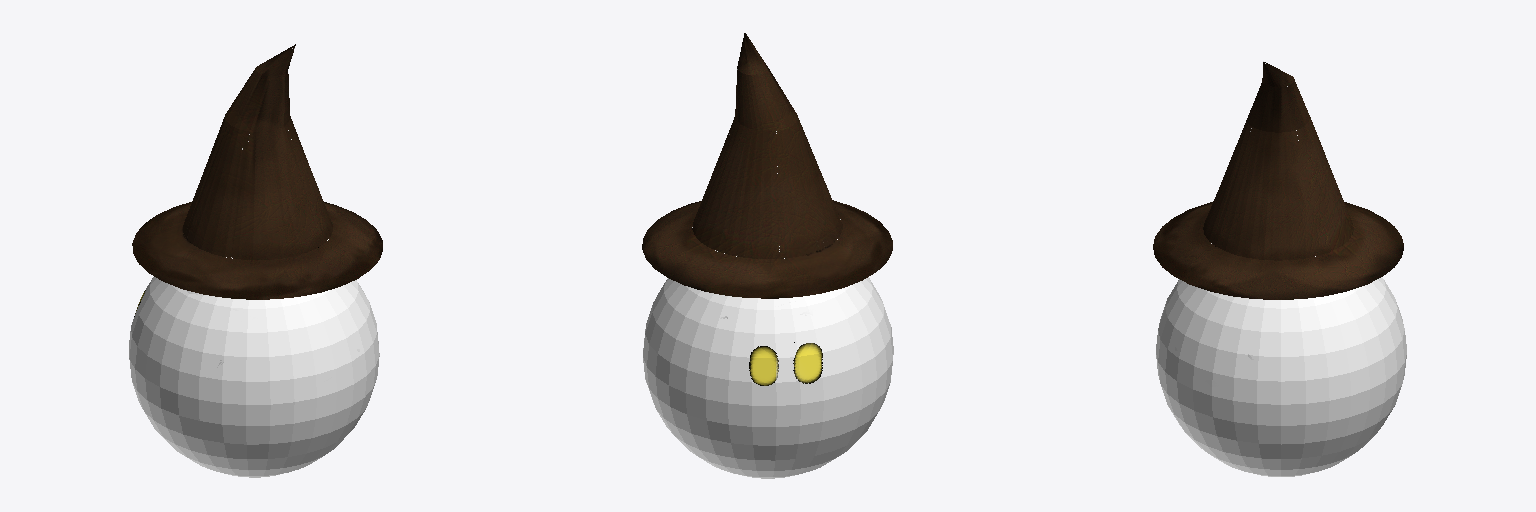
3 views of the same model, side by side, from view 1: azimuth 30°, elevation 25°; view 2: azimuth 150°, elevation 25°; view 3: azimuth 270°, elevation 25° (orthographic).
Parts seen in each view (by area): view 1: Sphere; view 2: Sphere; view 3: Sphere.
Boxes of the visible parts, box(x1,y1,x2,y2) form: Sphere: box(129, 44, 382, 477); Sphere: box(642, 33, 893, 478); Sphere: box(1153, 61, 1406, 476).
Bounding box in the file's own units: 1.72 × 3.14 × 1.72.
Materials: 1 (1 with a texture image).